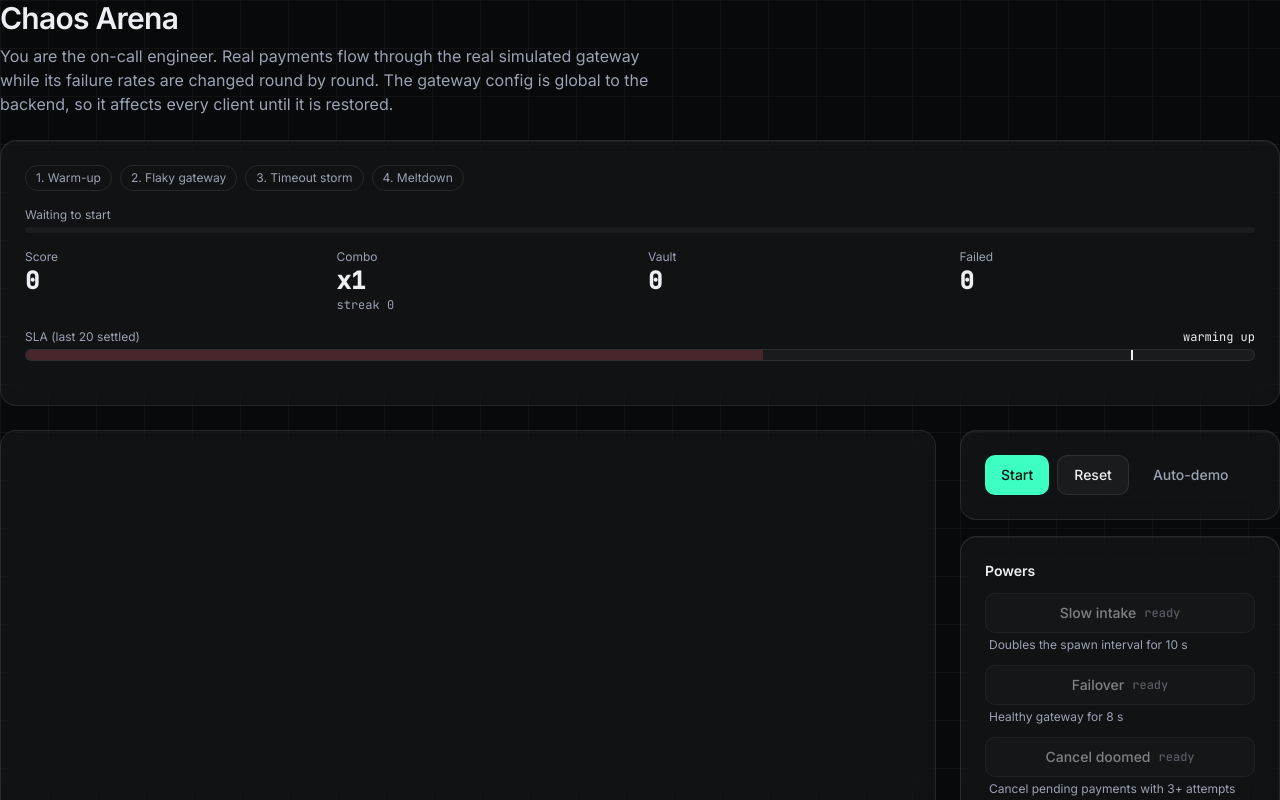
Test: Arena gateway guard › does not start, and changes nothing, when the snapshot GET fails
Click the button "Start" at [1017, 475], box [985, 455, 1049, 495]
(page scrolled)
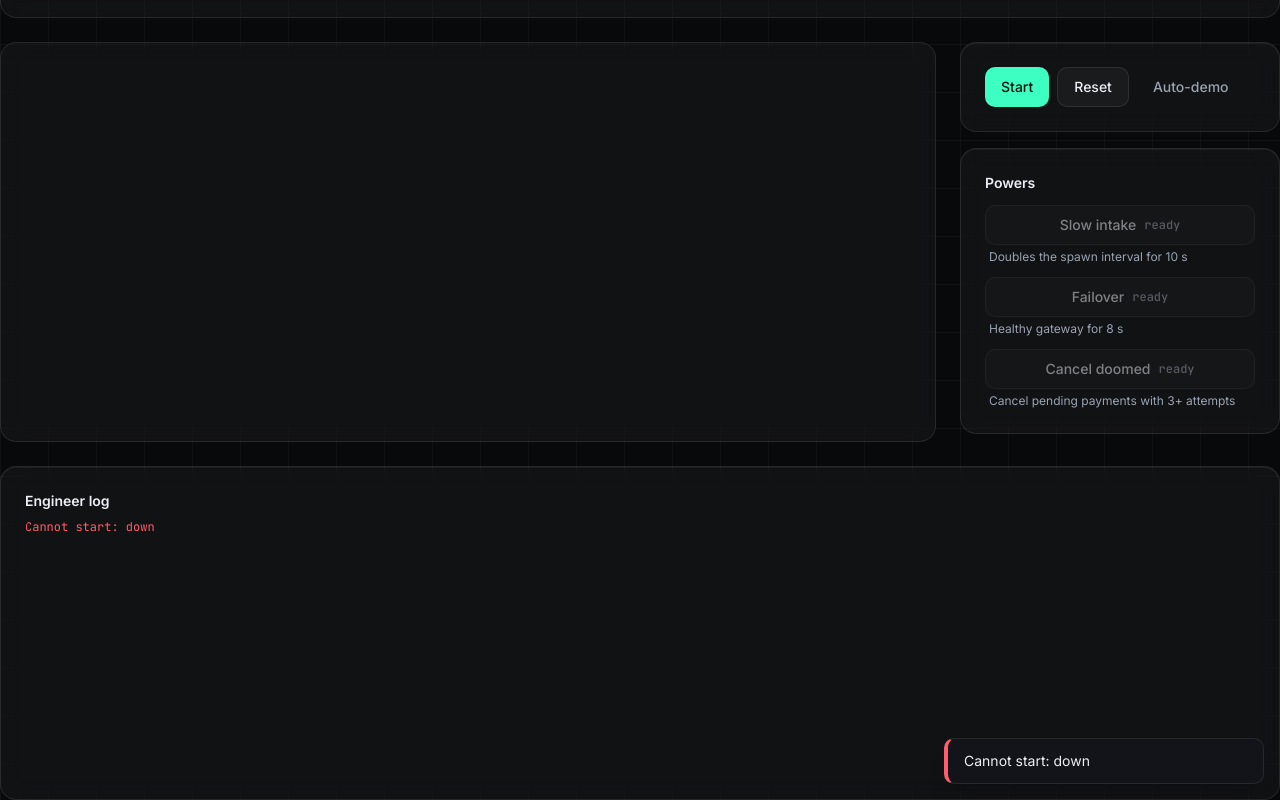
Check: the list item "Cannot start: down" is shown, box [25, 519, 155, 535]
